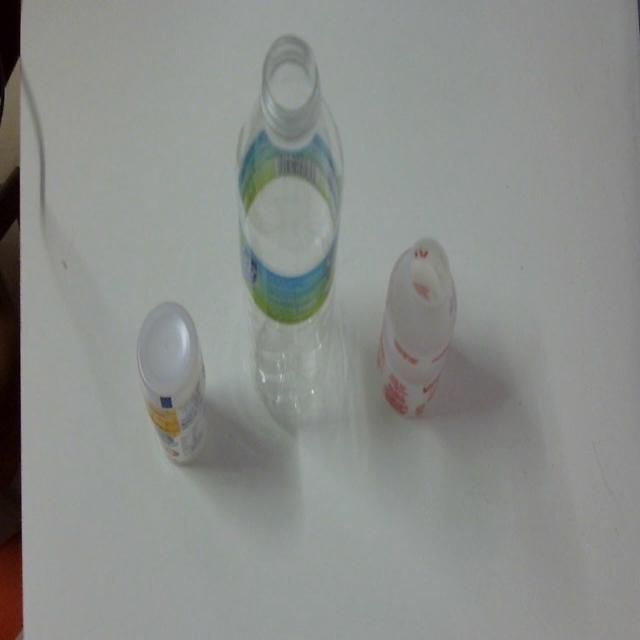plastic_standrotation: (226, 41, 350, 434), (373, 218, 460, 431), (132, 300, 218, 463)
